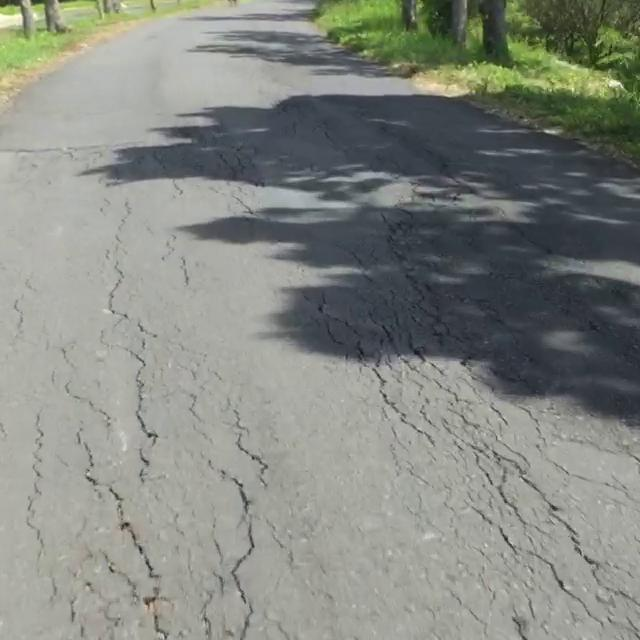retak_kulit_buaya: (5, 180, 292, 640), (382, 321, 640, 640)
